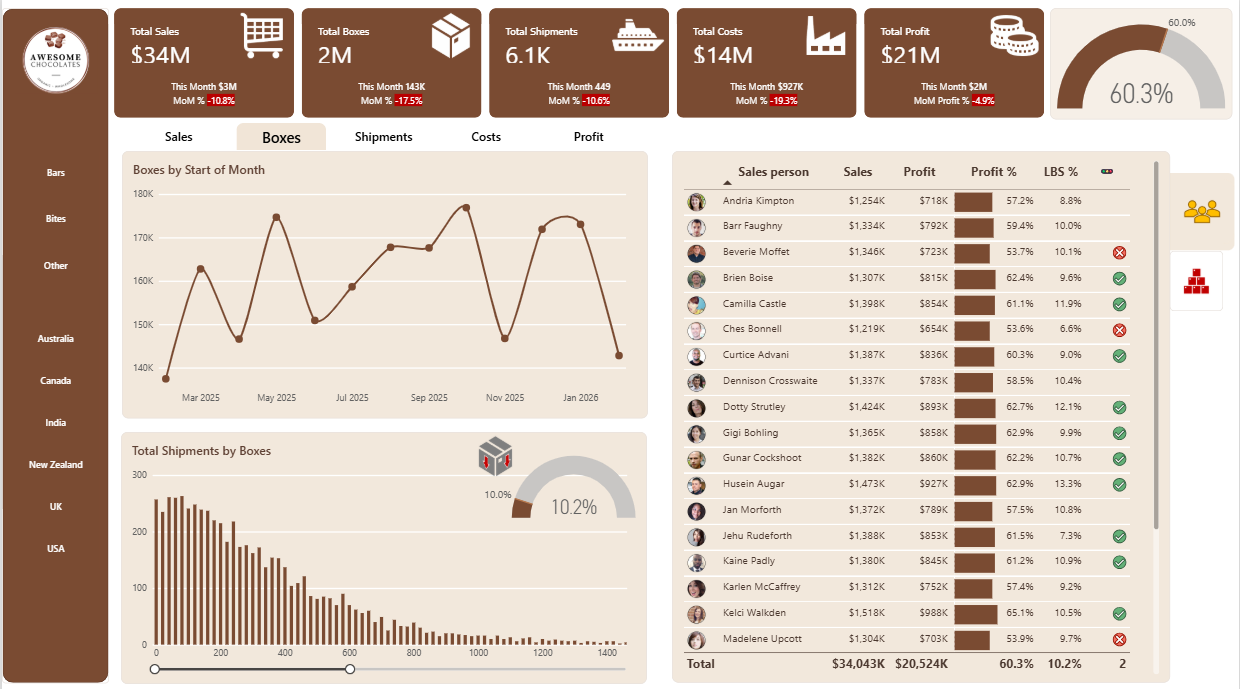

Layout of this report page (visuals, bound fields, positions):
{"tool":"powerbi","page":{"name":"Sales report","canvas":[1920,1080],"ordinal":2},"visuals":[{"type":"shape","box":[0,12,166,1048],"z":0},{"type":"cardVisual","fields":{"Data":["_Measures.Total Sales","_Measures.Total Boxes","_Measures.Total Shipments","_Measures.Total Costs","_Measures.Total Profit"]},"box":[166.7,5,1460,186.2],"z":1000},{"type":"gauge","fields":{"Y":["_Measures.Profit %"]},"box":[1626.7,11.7,283.3,173.3],"z":2000},{"type":"image","box":[20,42,127.5,102.9],"z":3000},{"type":"lineChart","fields":{"Category":["calendar.Start of Month"],"Y":["_Measures.Total Sales"]},"box":[186.2,233.8,816.2,415],"z":4000},{"type":"advancedSlicerVisual","fields":{"Values":["Measure Selector.Measure Selector"]},"box":[205,191.2,775,42.5],"z":5000},{"type":"columnChart","title":"Total Shipments by Boxes","fields":{"Category":["shipments.Boxes (bins)"],"Y":["_Measures.Total Shipments"]},"box":[185,670,816.5,391],"z":6000},{"type":"gauge","fields":{"Y":["_Measures.LBS %"]},"box":[742.5,695,239.8,136.1],"z":7000},{"type":"image","box":[725,670,81.8,74.5],"z":8000},{"type":"tableEx","title":"Product table","fields":{"Values":["products.Product","_Measures.Total Sales","_Measures.Total Profit","_Measures.Profit %","_Measures.LBS %","_Measures.Profit Target Indicator"]},"box":[1040,234,772,826],"z":10000},{"type":"image","title":"People Icon","box":[1811.7,293.3,81.7,95],"z":11000},{"type":"advancedSlicerVisual","fields":{"Values":["products.Category"]},"box":[16,236,136,210],"z":13000},{"type":"advancedSlicerVisual","fields":{"Values":["locations.Geo"]},"box":[16,498,136,384],"z":14000},{"type":"image","title":"Product color","box":[1811.7,388.3,100,120],"z":15000}]}

Visuals, with their boxes in screenshot pixels (x1, y1, x2, y2), scaled from the page's 1920x1080 canvas onto the 1240x689 screenshot:
shape: detection(0, 8, 107, 676)
cardVisual - _Measures.Total Sales x _Measures.Total Boxes: detection(108, 3, 1051, 122)
gauge - _Measures.Profit %: detection(1051, 7, 1234, 118)
image: detection(13, 27, 95, 92)
lineChart - calendar.Start of Month x _Measures.Total Sales: detection(120, 149, 647, 414)
advancedSlicerVisual - Measure Selector.Measure Selector: detection(132, 122, 633, 149)
"Total Shipments by Boxes" columnChart: detection(119, 427, 647, 677)
gauge - _Measures.LBS %: detection(480, 443, 634, 530)
image: detection(468, 427, 521, 475)
"Product table" tableEx: detection(672, 149, 1170, 676)
"People Icon" image: detection(1170, 187, 1223, 248)
advancedSlicerVisual - products.Category: detection(10, 151, 98, 285)
advancedSlicerVisual - locations.Geo: detection(10, 318, 98, 563)
"Product color" image: detection(1170, 248, 1235, 324)
